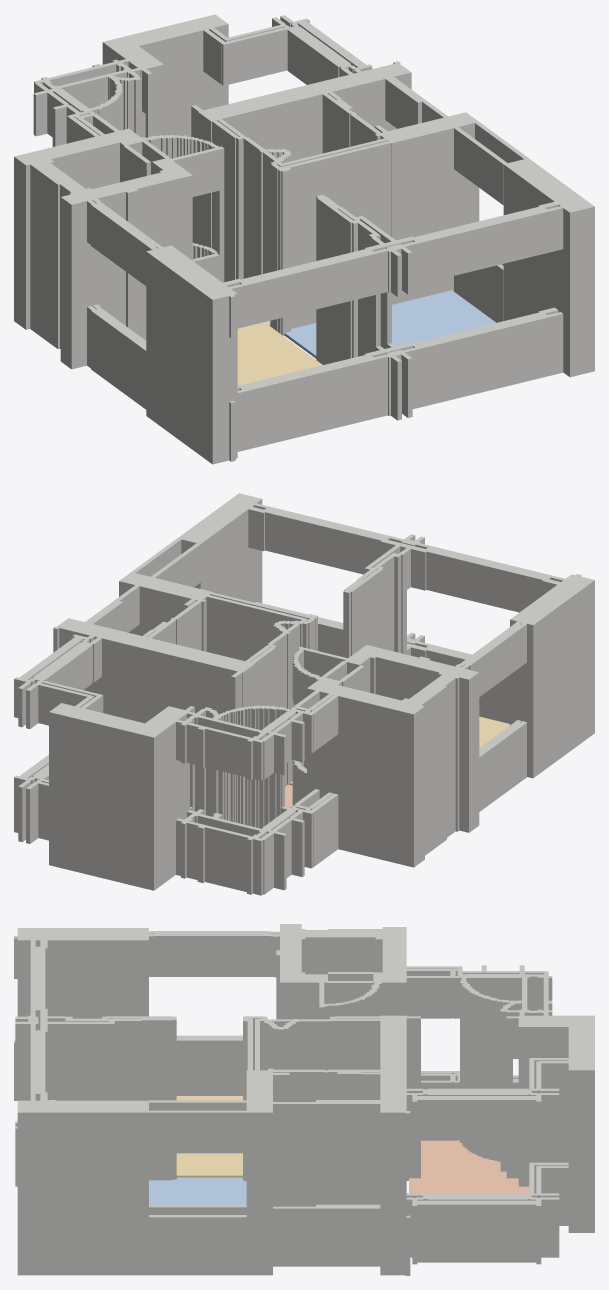
3 views of the same model, one above another, from view 1: azimuth 30°, elevation 25°; view 2: azimuth 150°, elevation 25°; view 3: azimuth 270°, elevation 25° (orthographic). The views are drawn at different scales.
Visible parts, largest first — view 1: walls, room:bedroom:5, room:living:2; view 2: walls, room:living:2; view 3: walls, room:kitchen:0, room:bedroom:5, room:living:2.
Boxes of the visible parts, x1,y1,x2,y2 form: walls: (14, 14, 594, 464); room:bedroom:5: (284, 290, 496, 358); room:living:2: (237, 321, 322, 385); walls: (14, 493, 594, 895); room:living:2: (289, 716, 509, 785); walls: (14, 924, 594, 1275); room:kitchen:0: (409, 1140, 529, 1193); room:bedroom:5: (149, 1177, 246, 1204); room:living:2: (48, 1096, 242, 1177).
Size of the model in its own units: 6.98 by 2.8 by 9.06.
